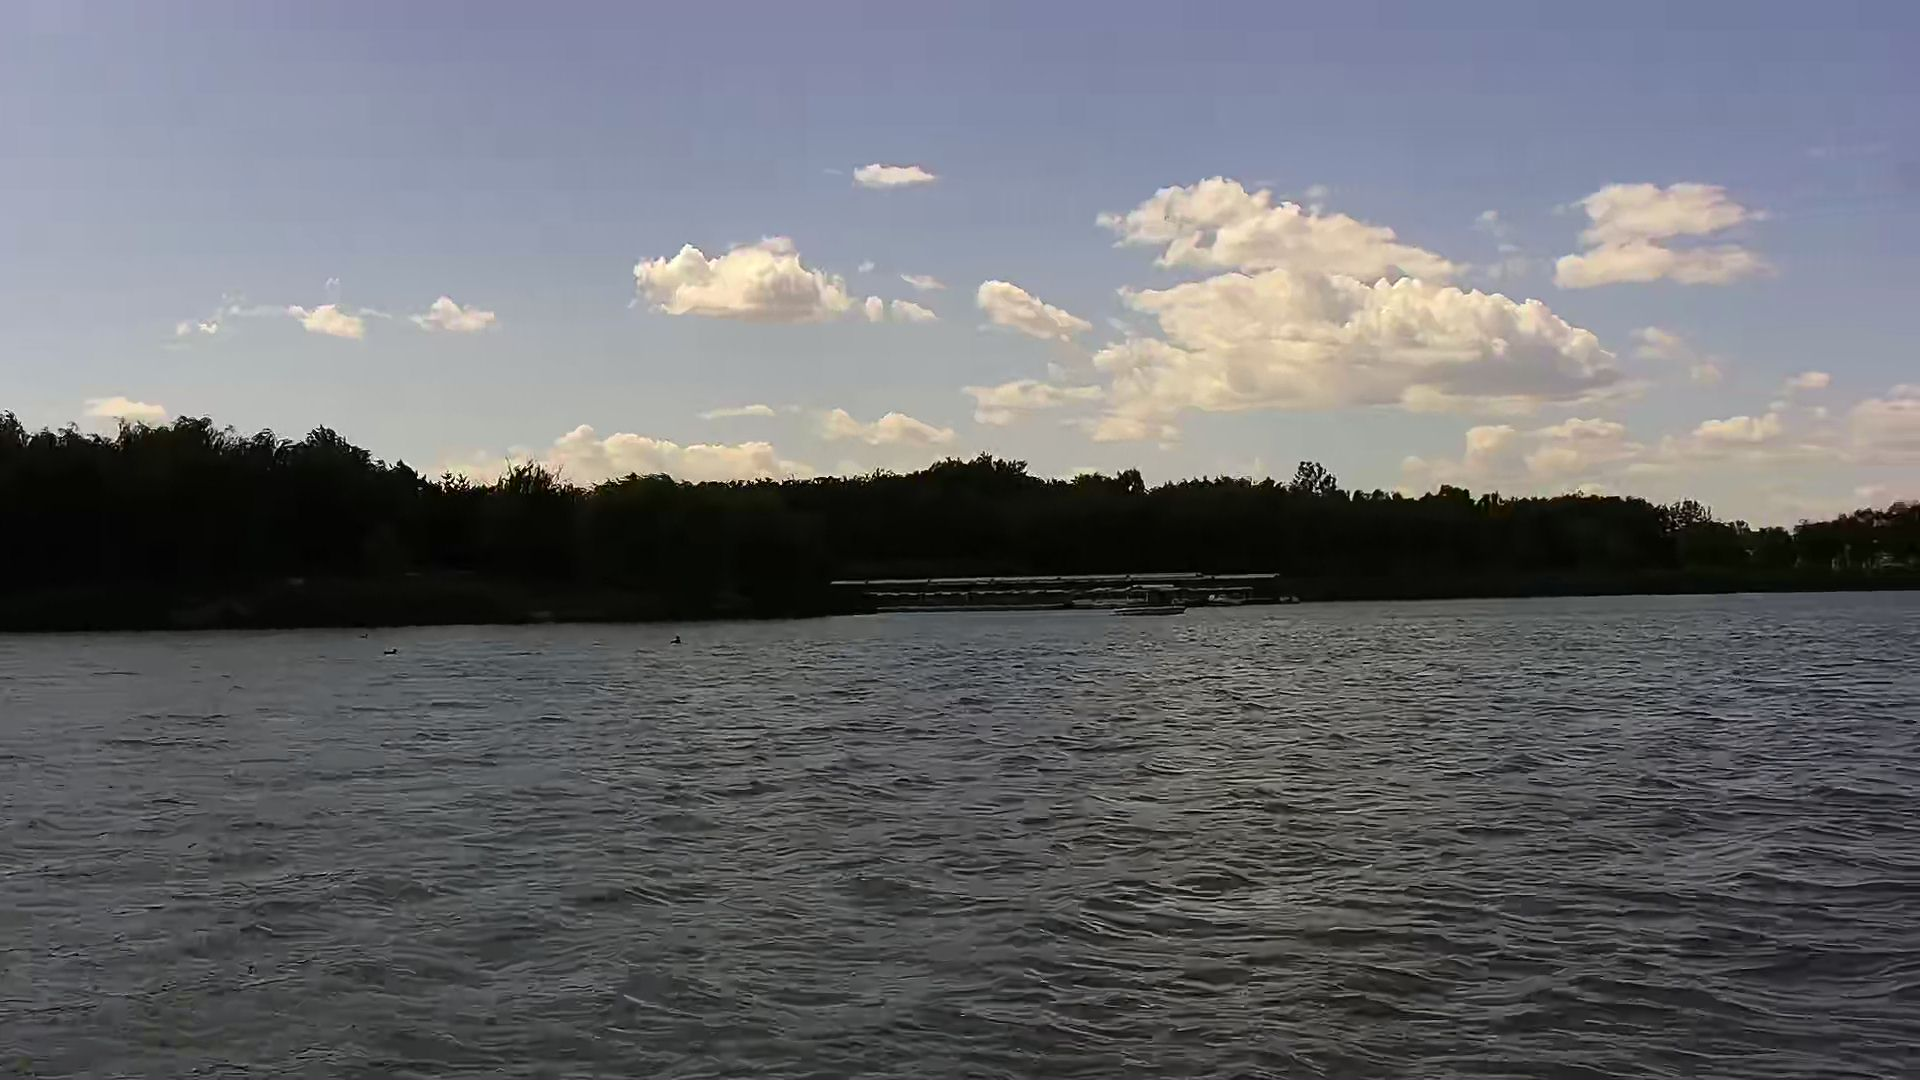boat: (1112, 580, 1193, 622)
harbor: (825, 572, 1280, 612)
